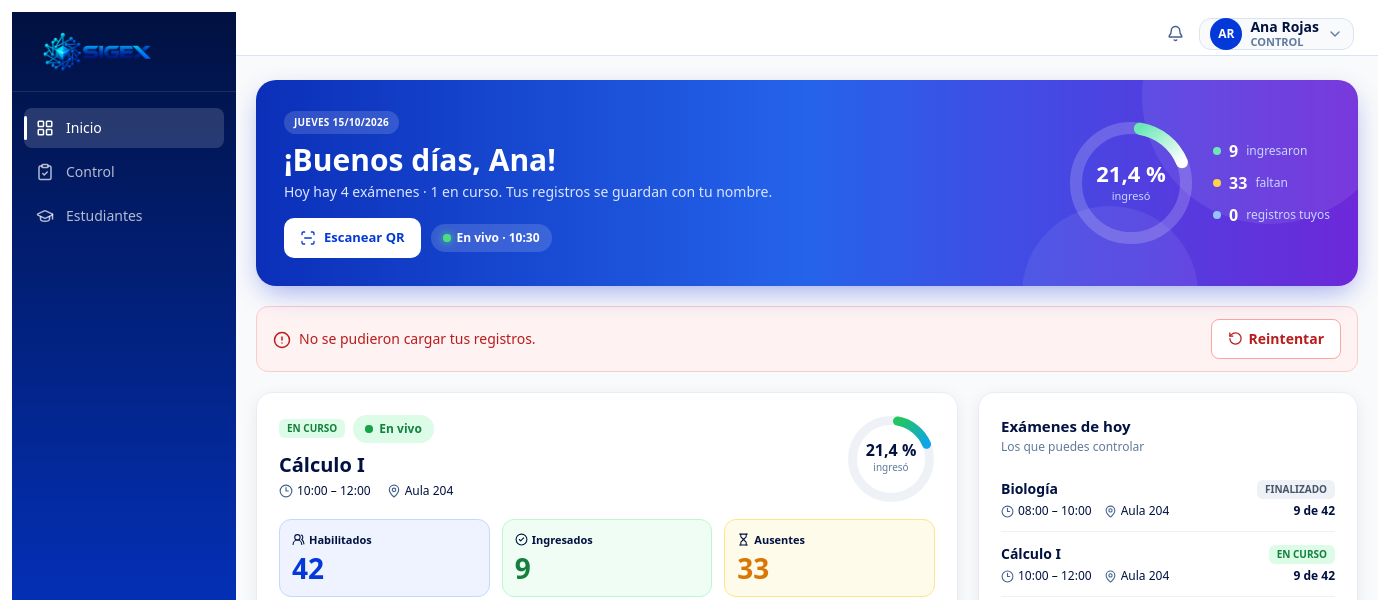
Scenario: ControlInicioPage (sección 17 de Figma) › si no se cargan sus registros, se puede reintentar
Click the button "Reintentar".
click(1276, 338)  # box [1211,318,1341,358]
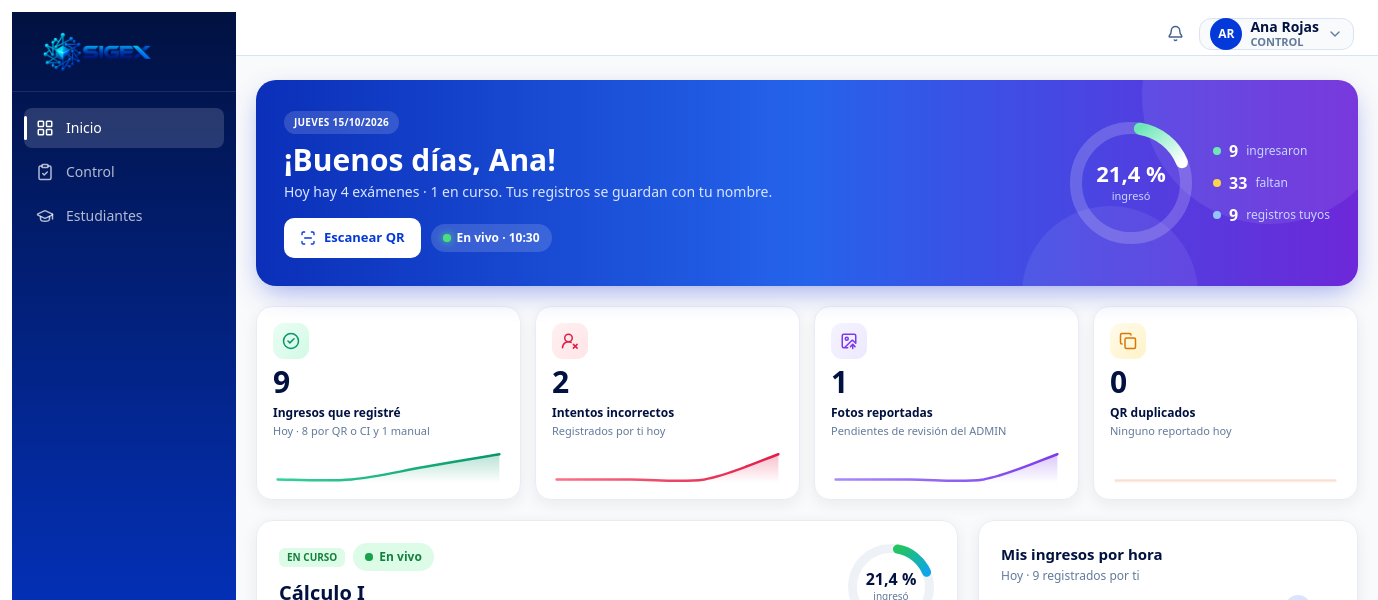
expect the text "Hoy · 8 por QR o CI y 1 manual" is shown: met, box [273,422,430,438]
